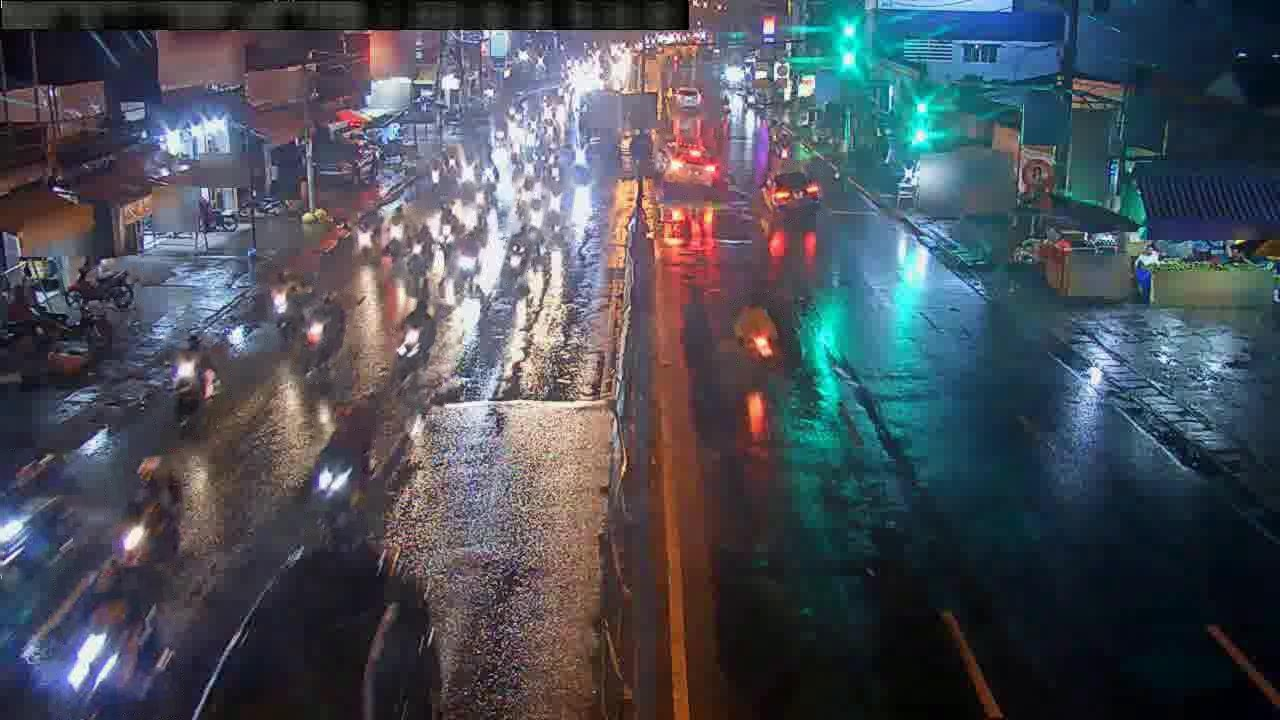Car: (761, 171, 822, 223), (663, 146, 720, 187)
Motorcyclist: (62, 563, 170, 719), (0, 453, 77, 574), (114, 456, 184, 565), (310, 421, 370, 538), (392, 300, 451, 397), (170, 332, 222, 429), (296, 292, 347, 378), (733, 298, 783, 365), (65, 266, 134, 309), (268, 269, 304, 338), (450, 226, 486, 284), (401, 220, 435, 277), (502, 225, 534, 282), (476, 184, 506, 233), (355, 212, 381, 261), (544, 189, 572, 234), (384, 210, 407, 260), (512, 177, 533, 221), (425, 200, 461, 223)
Pedestrian: (1134, 246, 1158, 304)
